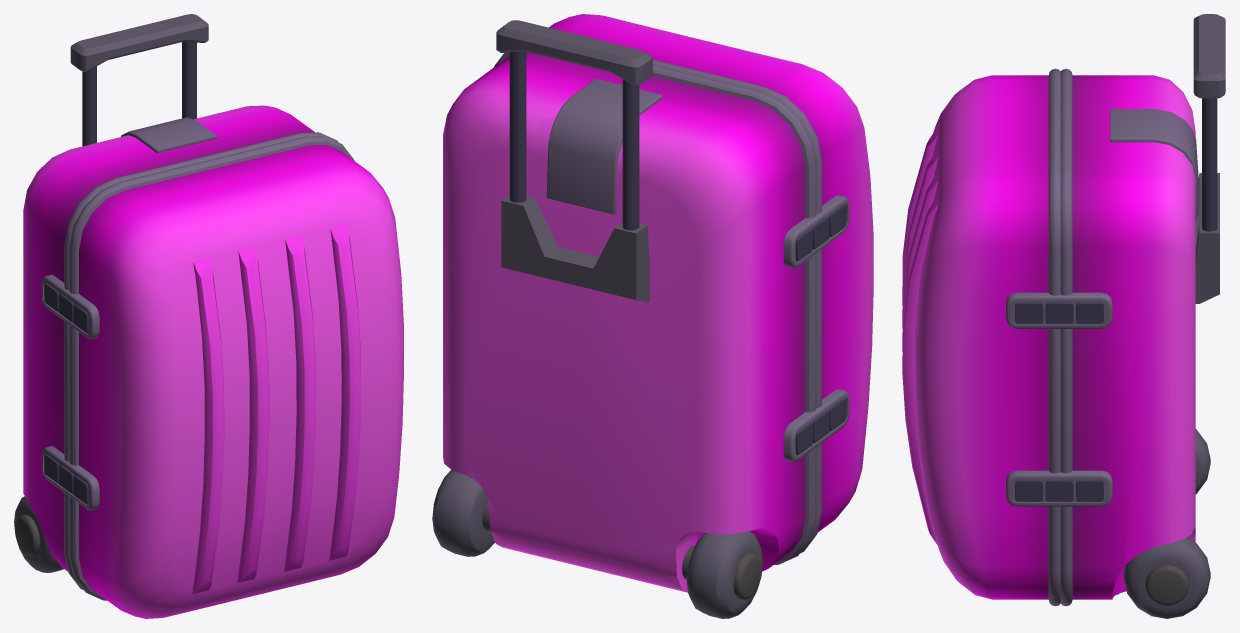
File: Baggage_Pink.fbx
3 views of the same model, side by side, from view 1: azimuth 30°, elevation 25°; view 2: azimuth 150°, elevation 25°; view 3: azimuth 270°, elevation 25° (orthographic). The views are drawn at different scales.
Visible parts, largest first — view 1: Baggage_Pink; view 2: Baggage_Pink; view 3: Baggage_Pink.
Part boxes in pixels (x1=…): Baggage_Pink: x1=14, y1=14, x2=403, y2=618; Baggage_Pink: x1=432, y1=14, x2=873, y2=618; Baggage_Pink: x1=902, y1=14, x2=1225, y2=618.
Bounding box in the file's own units: 66.35 × 107 × 61.04.
